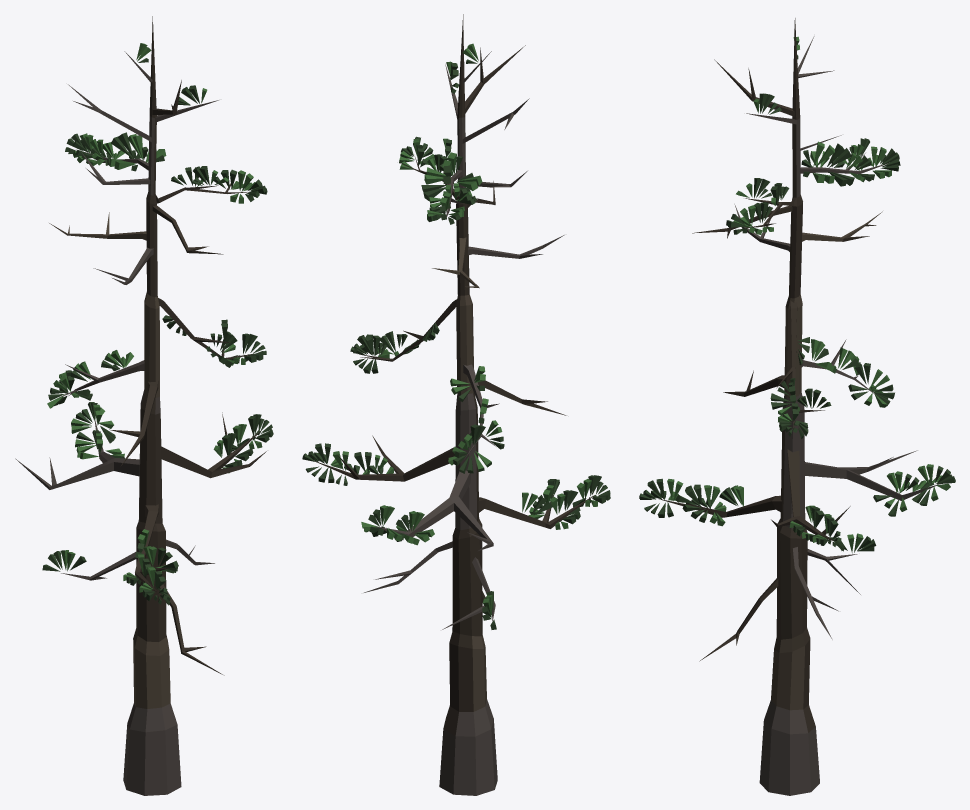
File: Tree2.fbx
The picture shows the model from 3 angles, left to right: view 1: azimuth 30°, elevation 25°; view 2: azimuth 150°, elevation 25°; view 3: azimuth 270°, elevation 25°; orthographic projection.
Parts seen in each view (by area): view 1: Cylinder.012; view 2: Cylinder.012; view 3: Cylinder.012.
Part boxes in pixels (x1=…): Cylinder.012: x1=15, y1=16, x2=273, y2=795; Cylinder.012: x1=302, y1=14, x2=610, y2=795; Cylinder.012: x1=639, y1=18, x2=955, y2=795.
Size of the model in its own units: 802 by 2715 by 1012.
